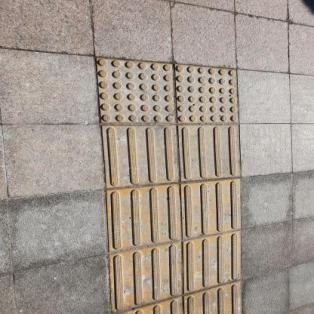Podoctatil: (87, 51, 254, 314)
